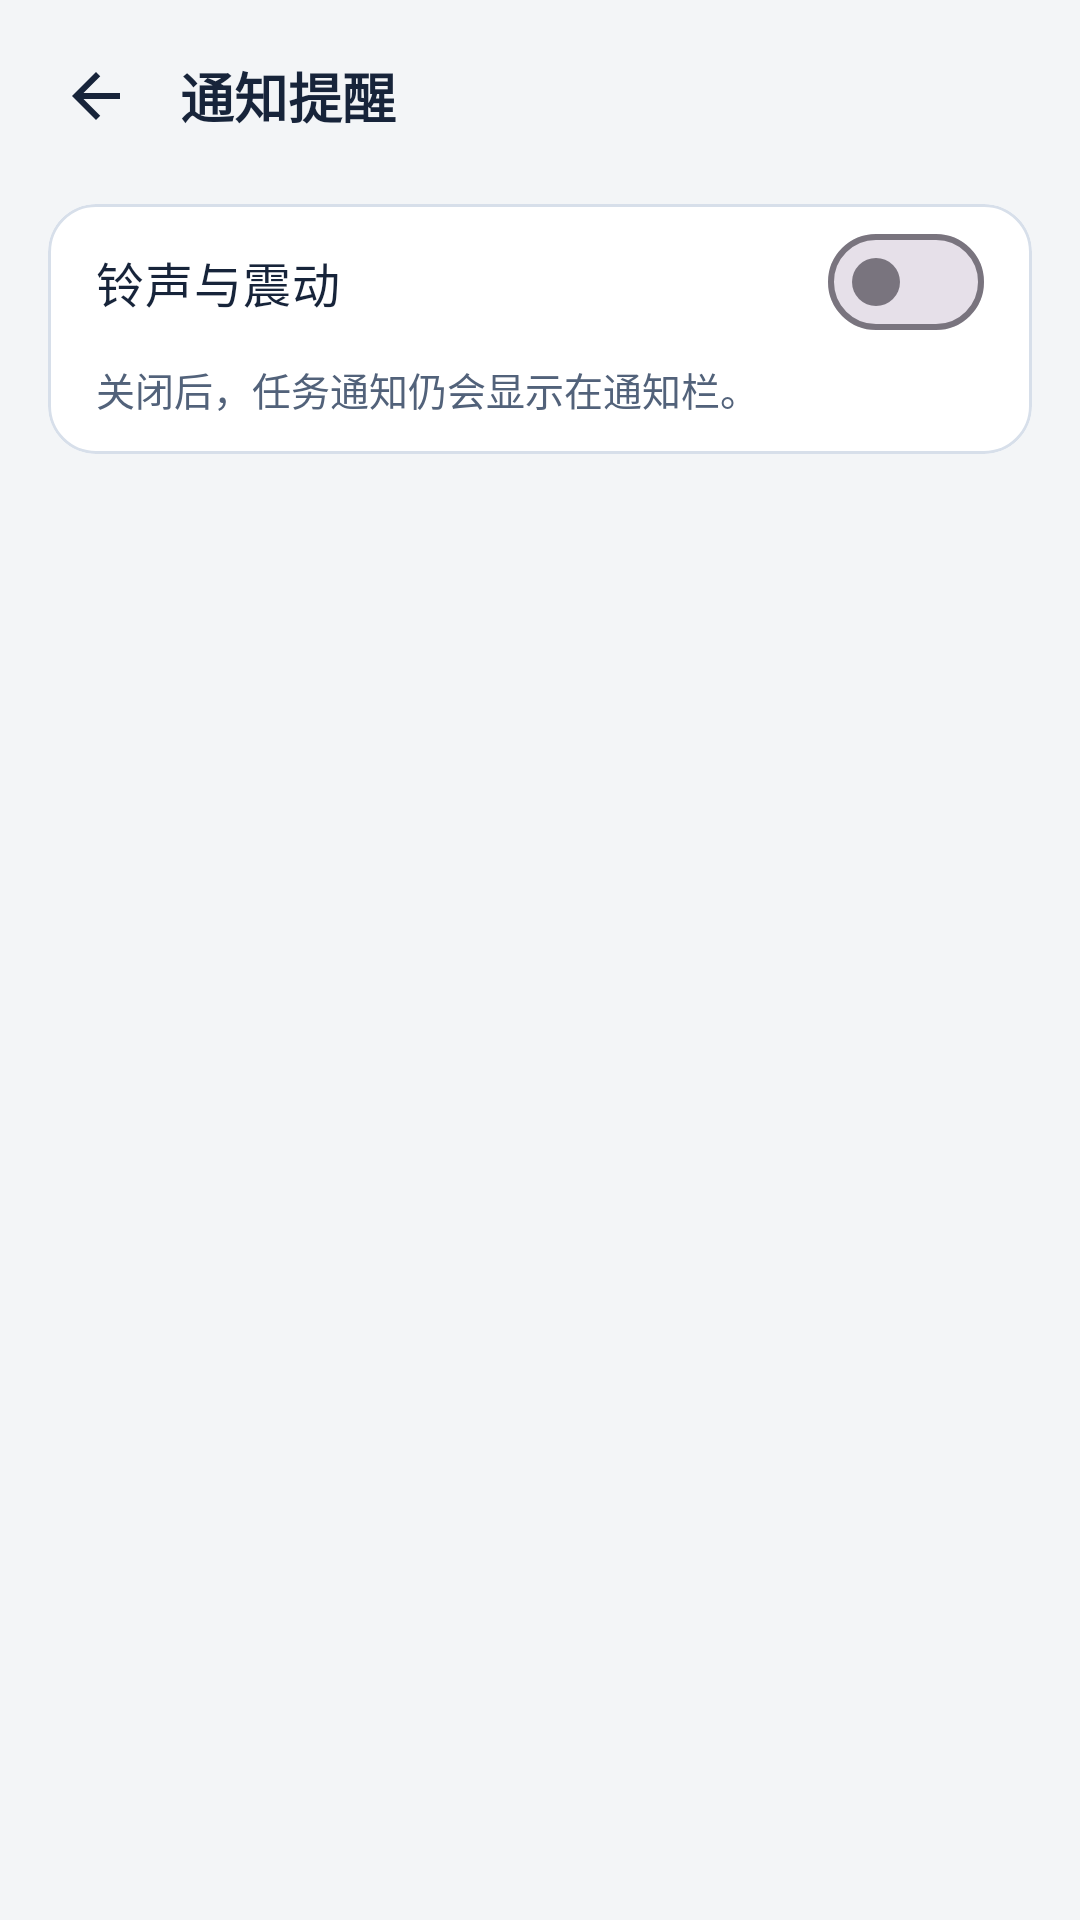

Icons on this 1080px x 1920px Android screen, each with its box as (x1, y1, x2, y2):
返回: (72, 72, 120, 120)
